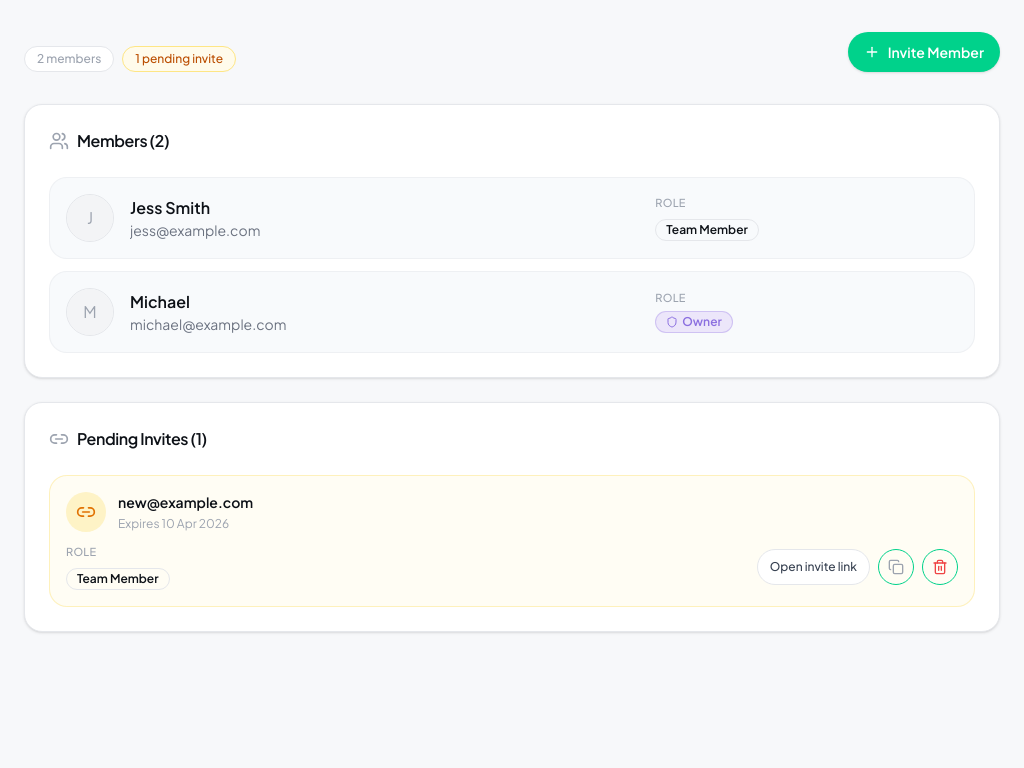
TeamPage › trims invite email before showing success copy
The width and height of the screenshot is (1024, 768).
Click the button "Invite Member" at (924, 52), box left=848, top=32, right=1000, bottom=72
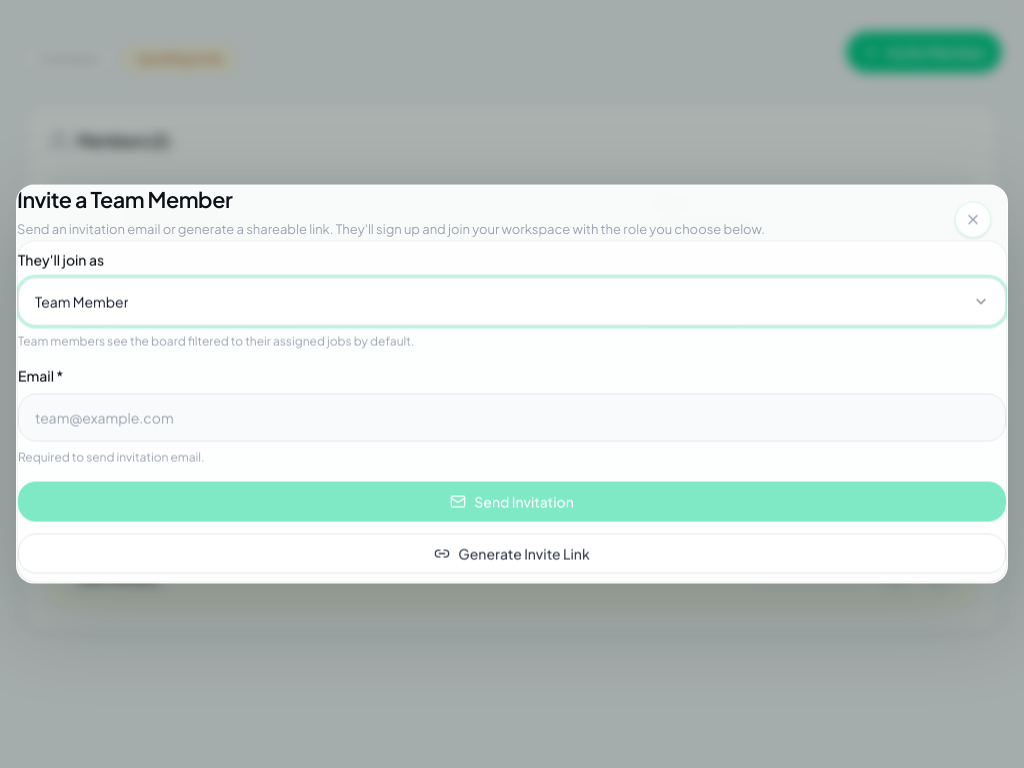
Type "  trimmed@example.com  " into the field with placeholder "team@example.com" at (512, 418), box left=18, top=394, right=1006, bottom=442
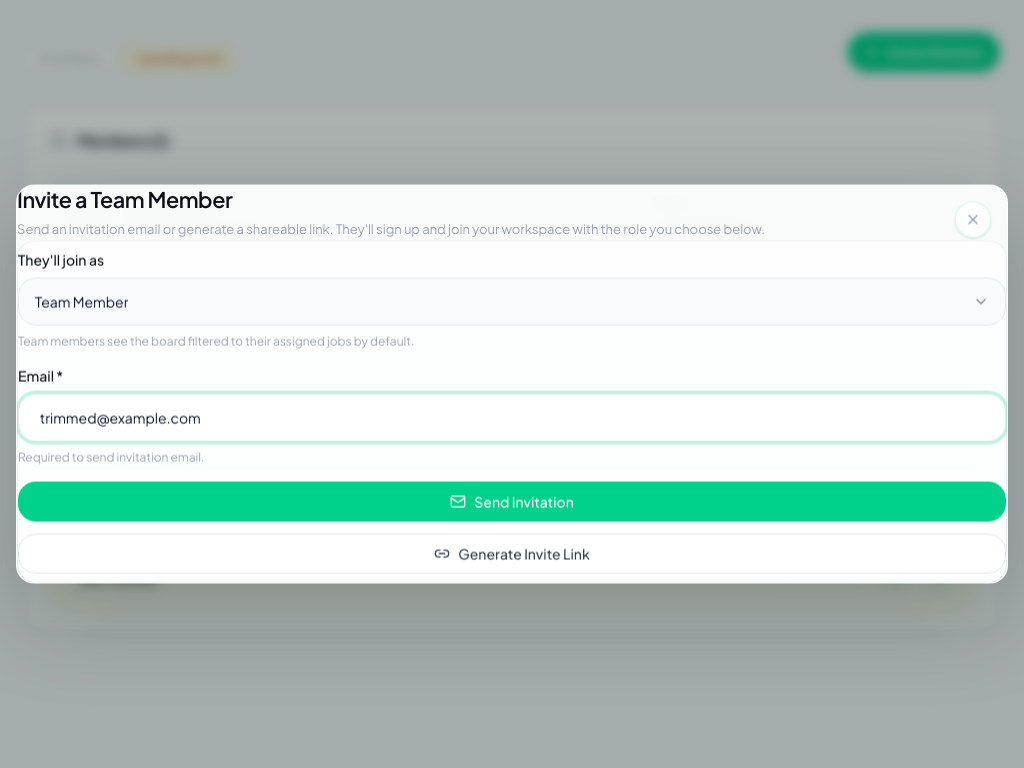
Click the button "Send Invitation" at (512, 502), box left=18, top=482, right=1006, bottom=522
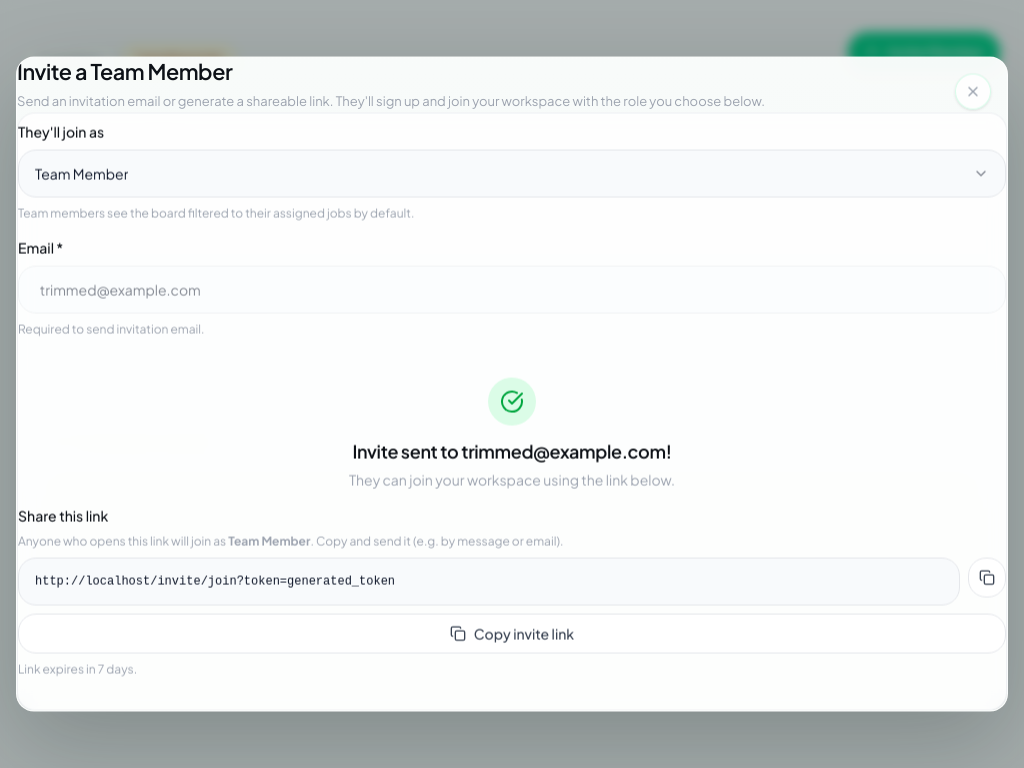
Expected: the heading "Invite sent to trimmed@example.com!" is shown, left=352, top=440, right=672, bottom=462
